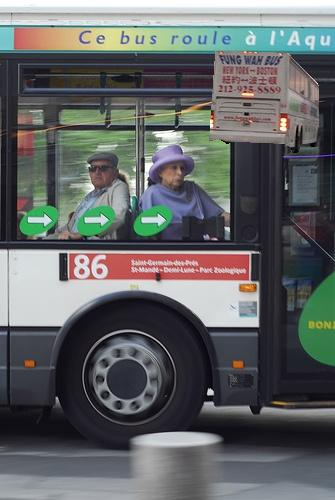tampered: (210, 52, 319, 153)
